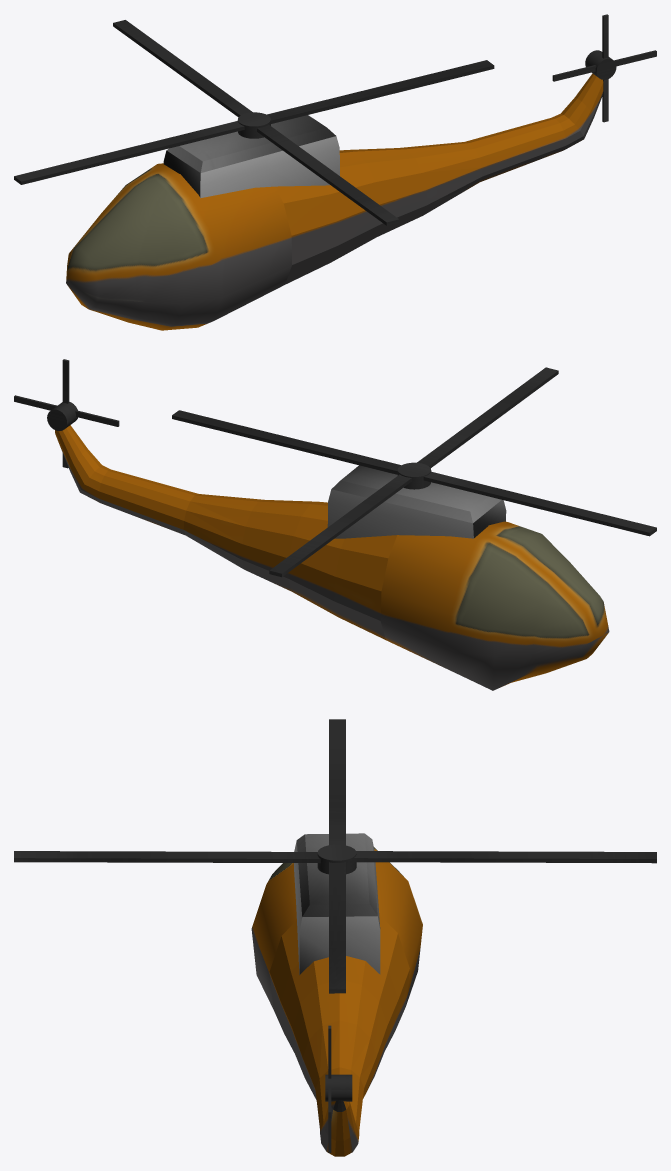
The model's file is Helitac.FBX.
The picture shows the model from 3 angles, top to bottom: view 1: azimuth 30°, elevation 25°; view 2: azimuth 150°, elevation 25°; view 3: azimuth 270°, elevation 25°; orthographic projection. The views are drawn at different scales.
Parts seen in each view (by area): view 1: Sphere001; view 2: Sphere001; view 3: Sphere001.
Boxes of the visible parts, left/top/right/bottom form: Sphere001: left=14, top=14, right=656, bottom=330; Sphere001: left=14, top=359, right=656, bottom=690; Sphere001: left=14, top=719, right=656, bottom=1156.
Size of the model in its own units: 157 by 49.05 by 117.
